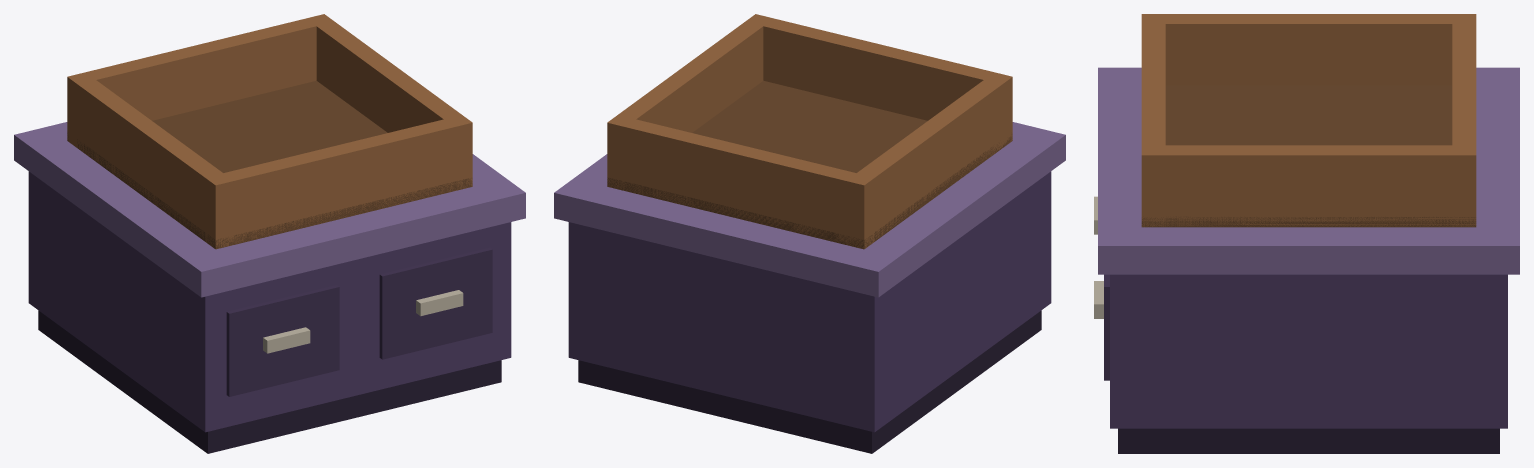
Rendered from k_mire_bottles.glb.
The picture shows the model from 3 angles, left to right: view 1: azimuth 30°, elevation 25°; view 2: azimuth 150°, elevation 25°; view 3: azimuth 270°, elevation 25°; orthographic projection. The views are drawn at different scales.
Visible parts, largest first — view 1: piece; view 2: piece; view 3: piece.
Boxes of the visible parts, <box> form: piece: <box>14,14,525,453</box>; piece: <box>554,14,1065,453</box>; piece: <box>1094,14,1519,453</box>.
Size of the model in its own units: 1.06 by 0.8 by 1.07.
